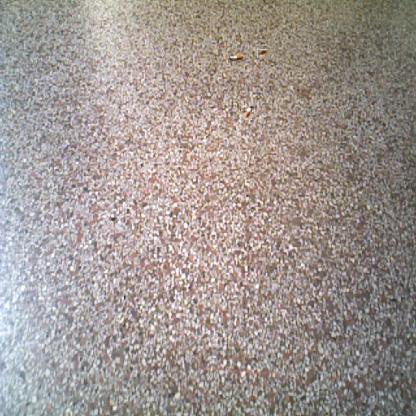dirty: (240, 106, 254, 120), (229, 53, 245, 61), (257, 49, 268, 58)
